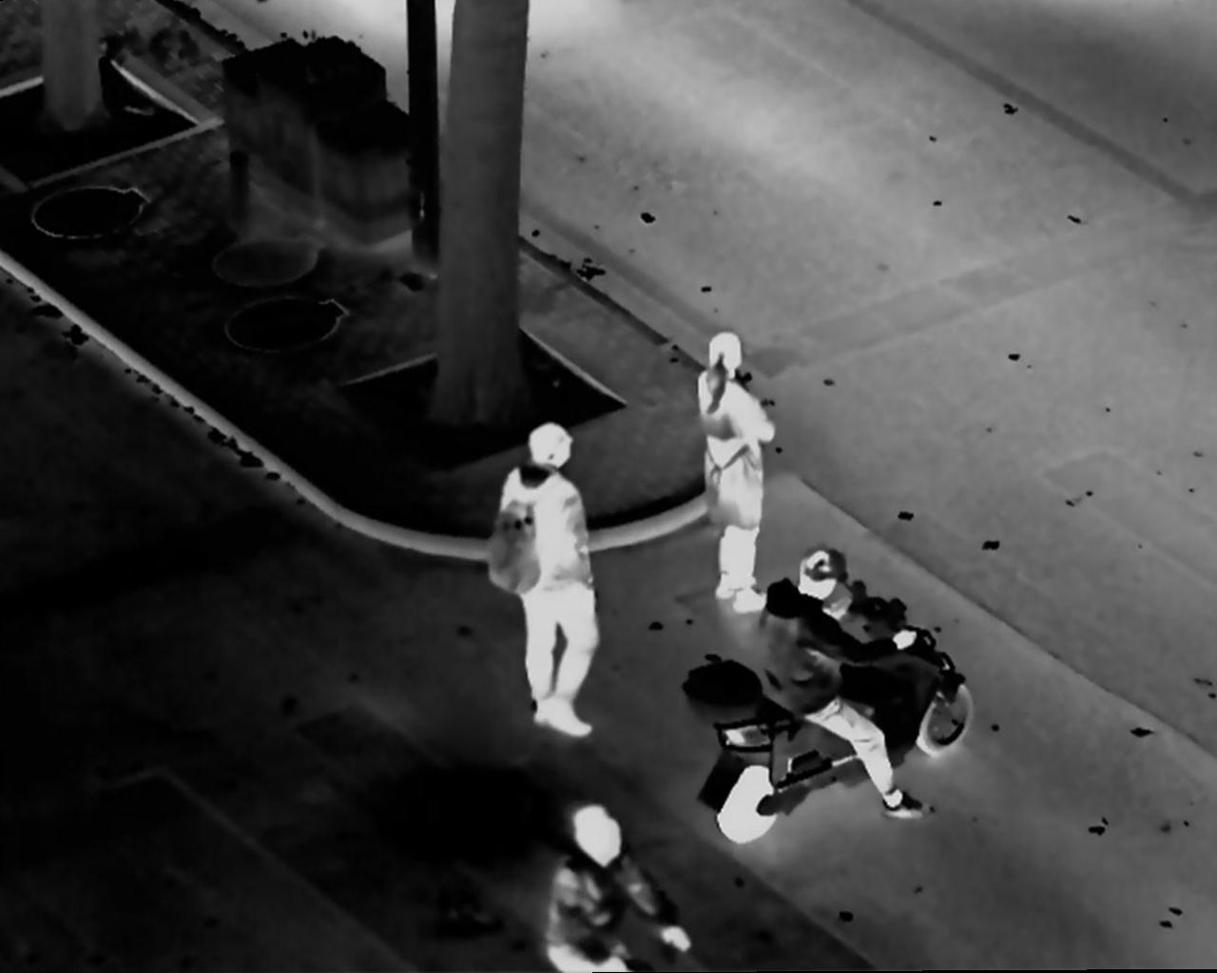person: (762, 547, 923, 816), (490, 422, 599, 737), (545, 804, 697, 971), (693, 332, 768, 615)
